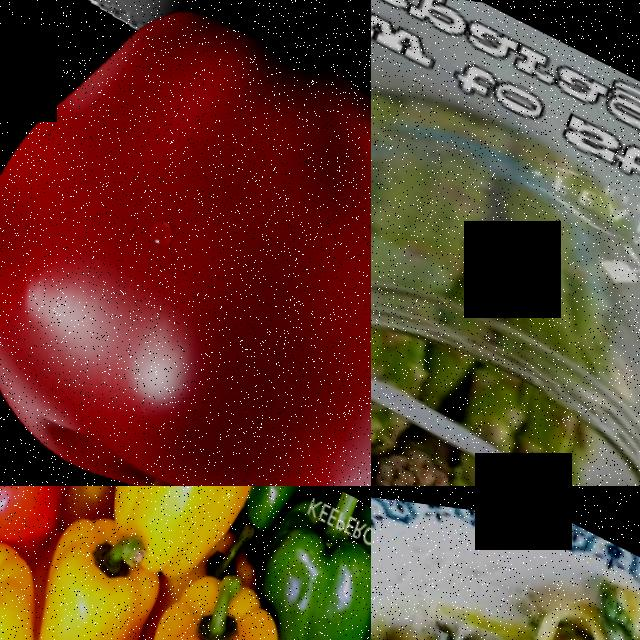apple: (0, 0, 371, 486)
asparagus: (405, 451, 532, 486), (371, 363, 398, 485)
bell pepper: (238, 486, 371, 640), (40, 506, 174, 640), (156, 553, 295, 640), (100, 486, 254, 559), (0, 507, 62, 640)
